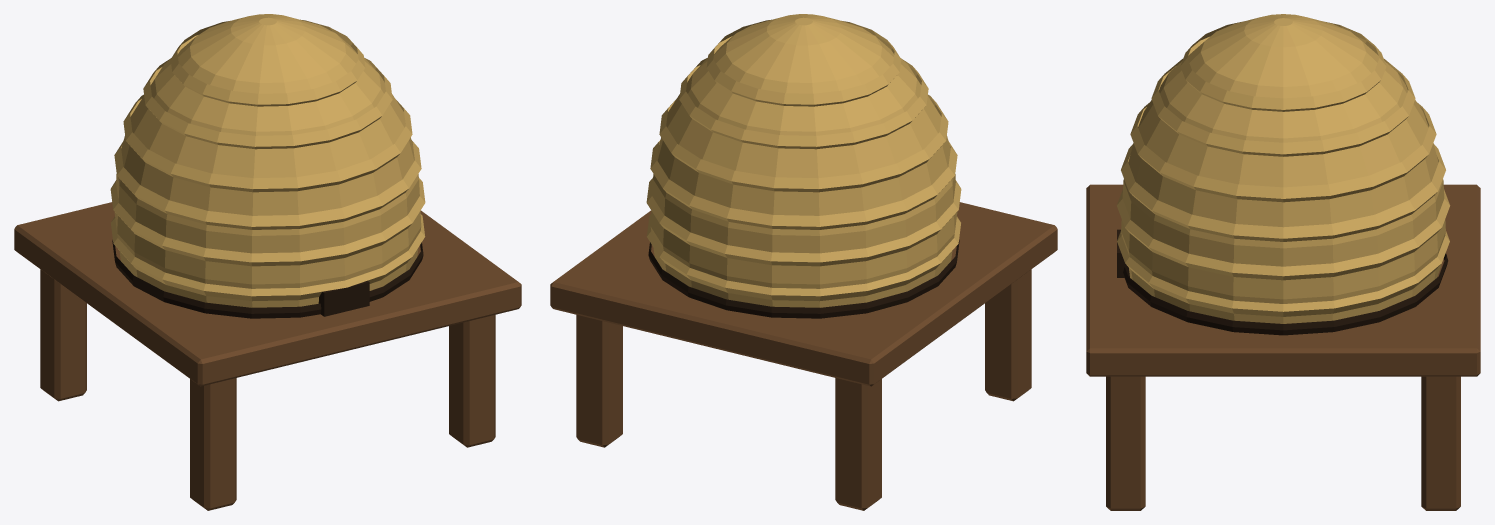
Rendered from Prop_Bee_Skep.glb.
The picture shows the model from 3 angles, left to right: view 1: azimuth 30°, elevation 25°; view 2: azimuth 150°, elevation 25°; view 3: azimuth 270°, elevation 25°; orthographic projection. The views are drawn at different scales.
Parts seen in each view (by area): view 1: Prop_Bee_Skep; view 2: Prop_Bee_Skep; view 3: Prop_Bee_Skep.
Boxes of the visible parts, left/top/right/bottom form: Prop_Bee_Skep: left=14, top=14, right=521, bottom=510; Prop_Bee_Skep: left=550, top=14, right=1057, bottom=510; Prop_Bee_Skep: left=1086, top=14, right=1480, bottom=510.
Size of what is drawn, in the model's own units: 0.5 by 0.582 by 0.5.
